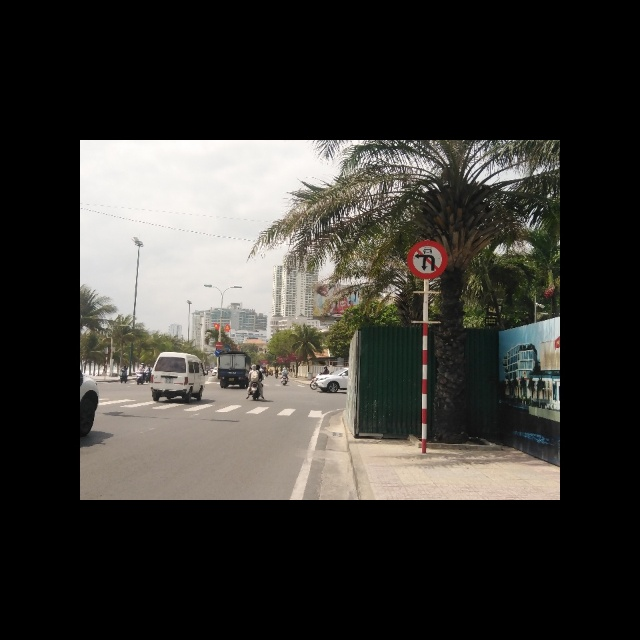Cấm xe ô tô quay đầu và rẽ trái: (407, 241, 449, 280)
